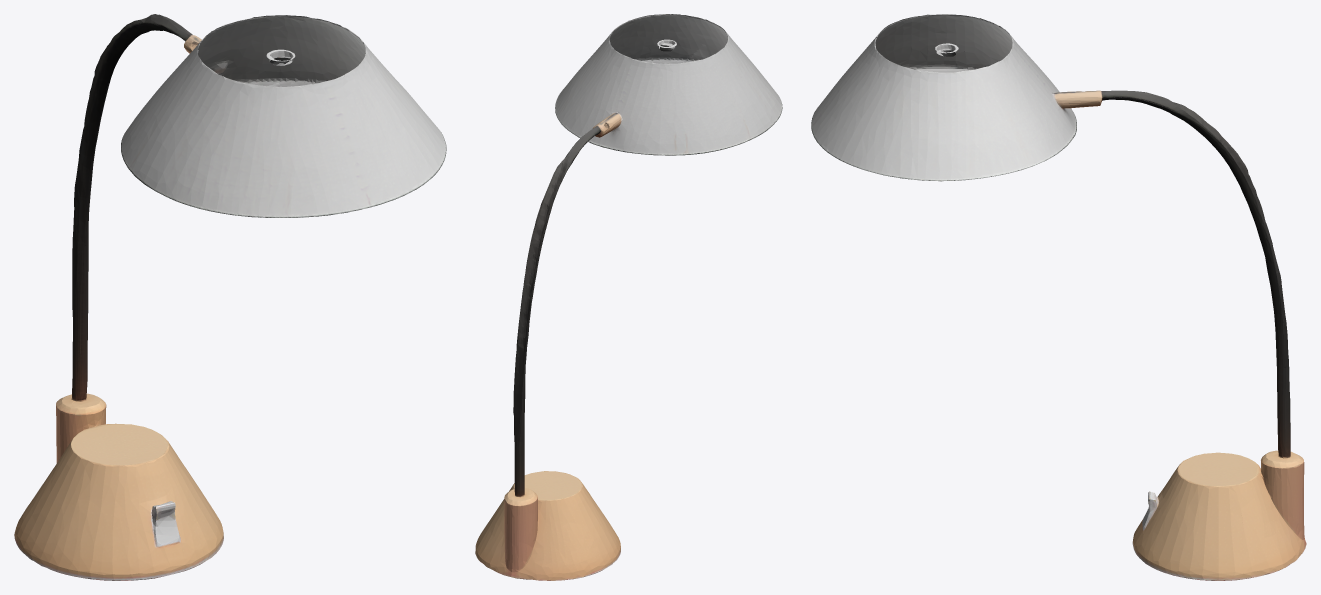
The model's file is appearance_edited_mesh.glb.
The picture shows the model from 3 angles, left to right: view 1: azimuth 30°, elevation 25°; view 2: azimuth 150°, elevation 25°; view 3: azimuth 270°, elevation 25°; orthographic projection. The views are drawn at different scales.
Parts seen in each view (by area): view 1: world; view 2: world; view 3: world.
Part boxes in pixels (x1=…): world: x1=14, y1=14, x2=446, y2=580; world: x1=475, y1=14, x2=782, y2=580; world: x1=811, y1=14, x2=1306, y2=580.
Size of the model in its own units: 0.3653 by 0.759 by 0.6813.
Materials: 1 (1 with a texture image).
